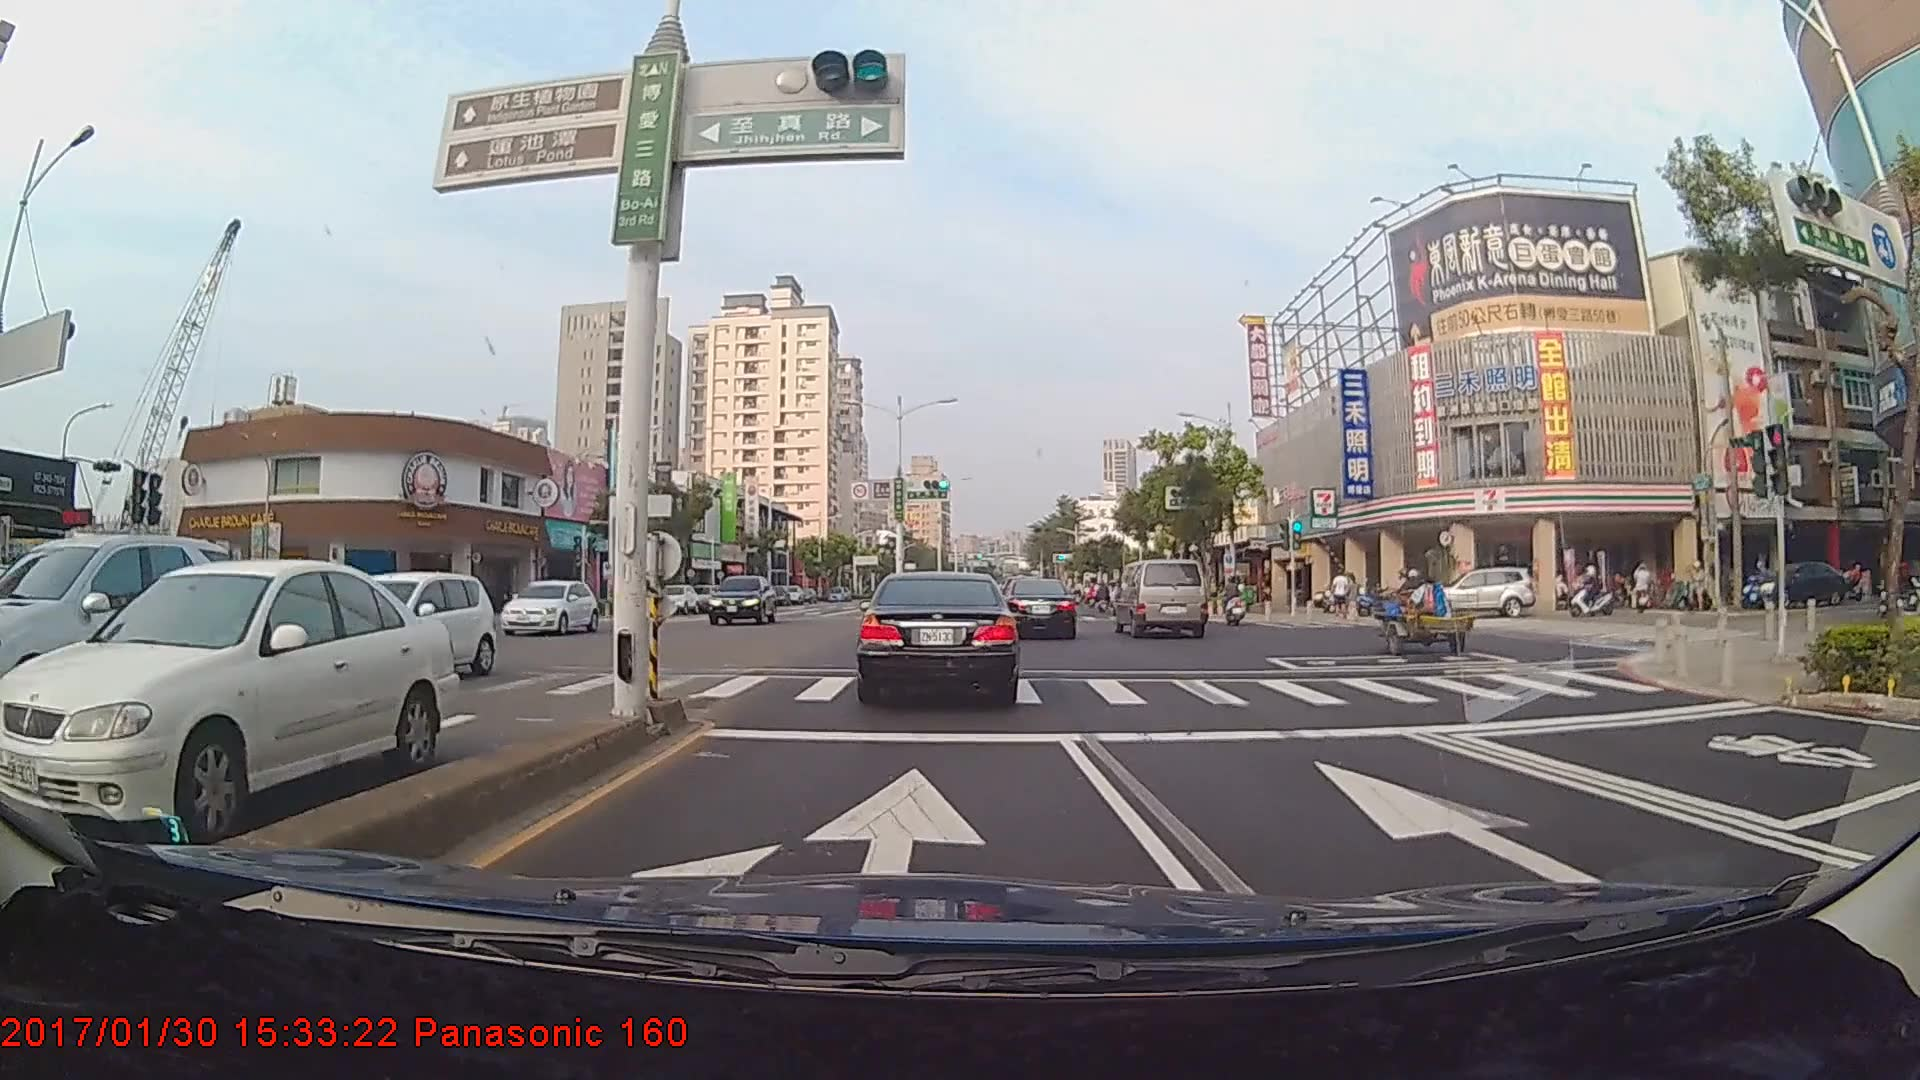pedestrian: (1332, 570, 1352, 620)
rider: (1565, 562, 1626, 625), (1215, 577, 1252, 630)
vehicle: (21, 553, 452, 841), (0, 531, 241, 752), (299, 568, 493, 686), (857, 566, 1019, 706), (1116, 557, 1209, 638), (1411, 570, 1535, 622), (493, 578, 595, 637), (1000, 578, 1078, 640), (706, 574, 777, 626), (657, 583, 699, 615)
